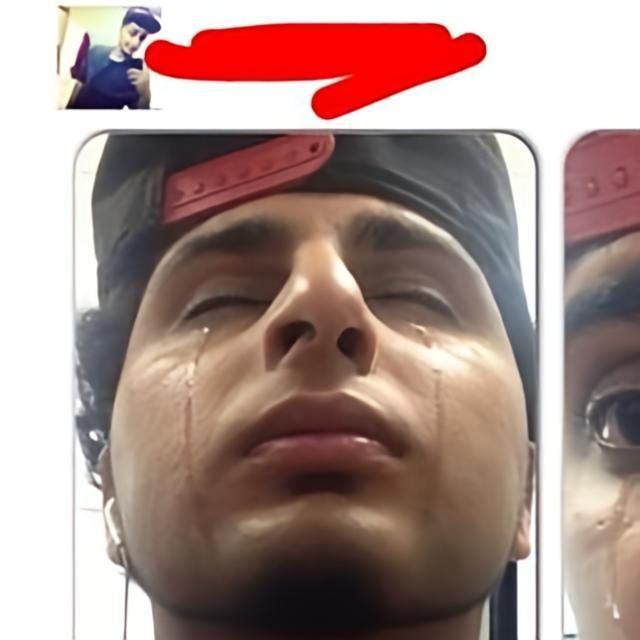neutral: (111, 188, 528, 624)
